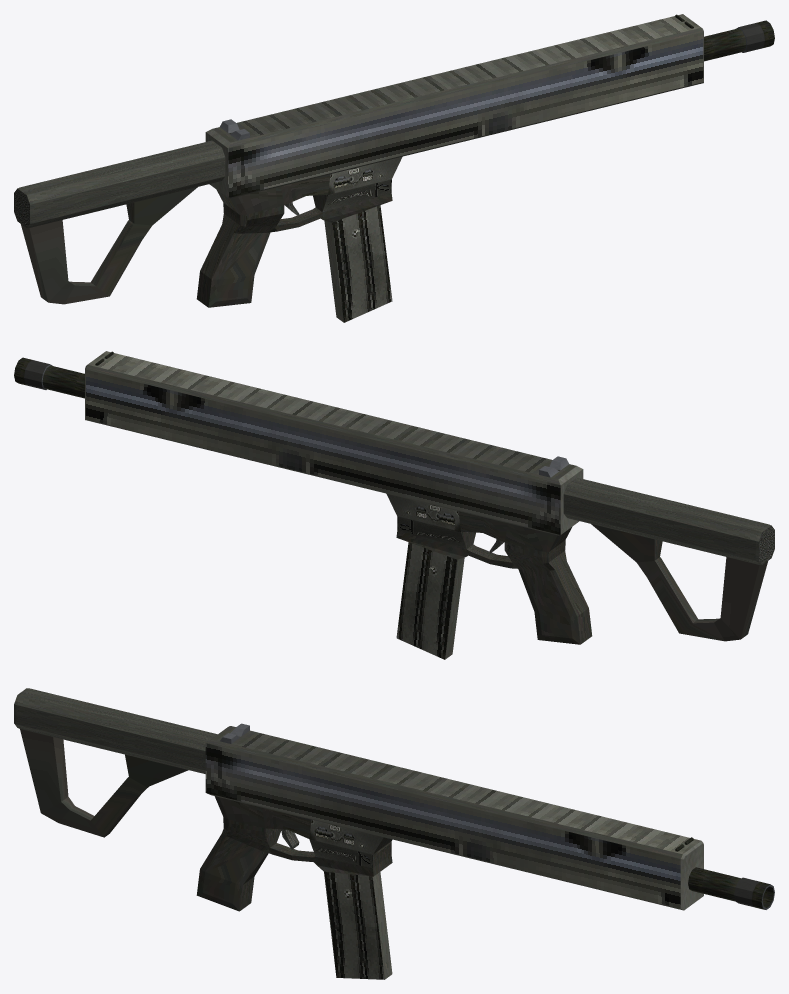
Rendered from auto_gun.glb.
3 views of the same model, one above another, from view 1: azimuth 30°, elevation 25°; view 2: azimuth 150°, elevation 25°; view 3: azimuth 330°, elevation 25° (orthographic).
Parts seen in each view (by area): view 1: Main, Handle, Stock, Barrel; view 2: Main, Handle, Stock, Barrel; view 3: Main, Handle, Stock, Barrel.
Part boxes in pixels (x1,y1,x2,y2): Main: (205,14,703,198); Handle: (196,156,402,322); Stock: (14,140,225,304); Barrel: (704,20,774,61); Main: (85,351,583,535); Handle: (386,493,592,659); Stock: (563,477,774,641); Barrel: (14,357,84,398); Main: (205,723,703,910); Handle: (196,796,392,979); Stock: (14,688,217,837); Barrel: (688,867,774,909).
Bounding box in the file's own units: 6.82 × 1.91 × 0.3553.
4 materials, 4 textured.
